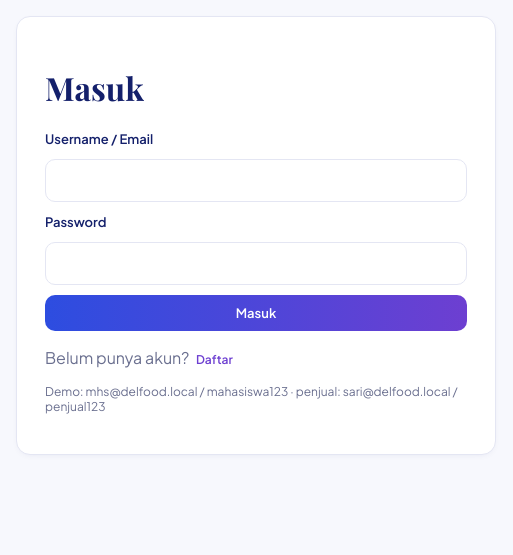
Test: Login (mode masuk) › bisa berganti mode dengan tombol switch mode
Check: the heading reads "Masuk", box [45, 66, 144, 109]
What coordinates should you click on to do the following:
click the button with id "btn-switch-mode"
I would click on:
 (214, 359)
Its box is [196, 352, 233, 367].
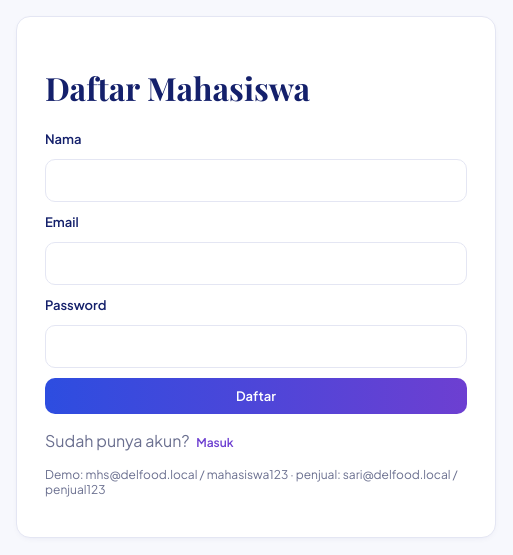
Check: the heading reads "Daftar Mahasiswa", box [45, 66, 310, 109]
What coordinates should you click on to do the following:
click the button with id "btn-switch-mode"
I would click on:
 (215, 442)
Its box is [196, 435, 234, 450].
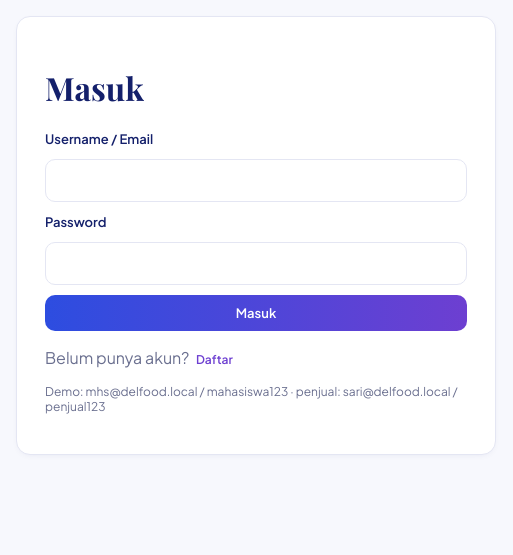
Check: the heading reads "Masuk", box [45, 66, 144, 109]
